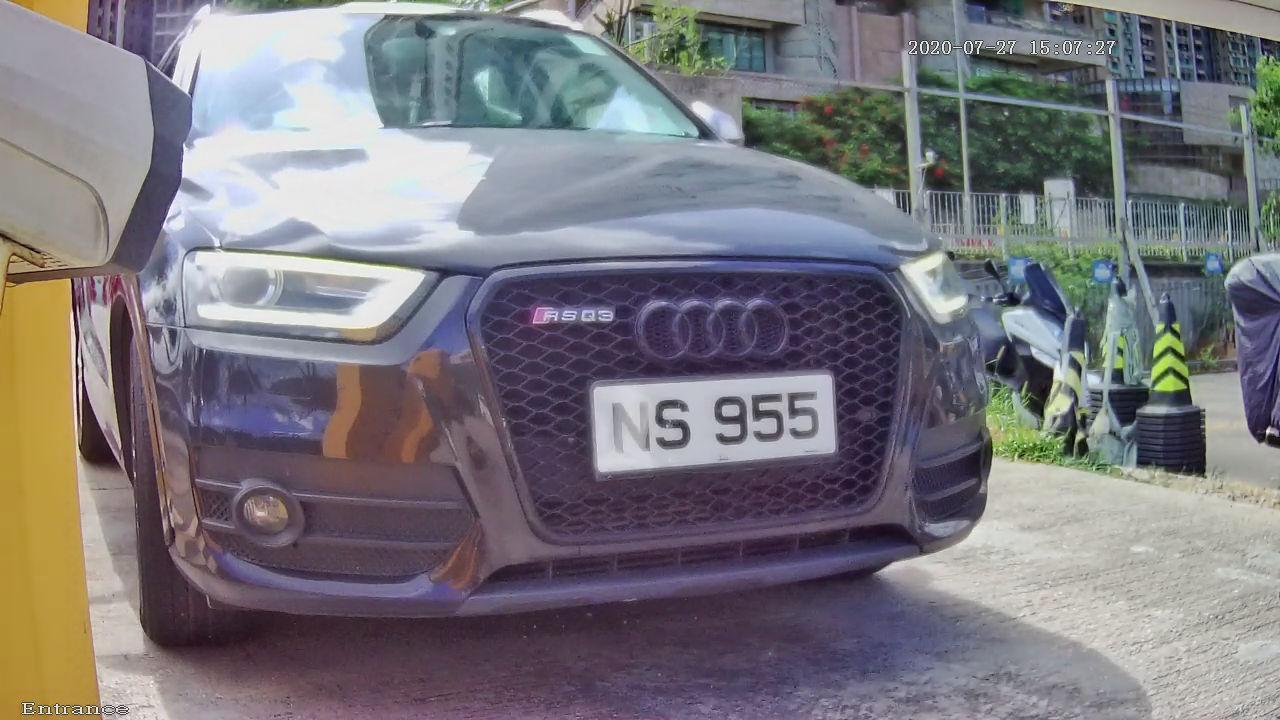privatecar: (46, 20, 1086, 659)
